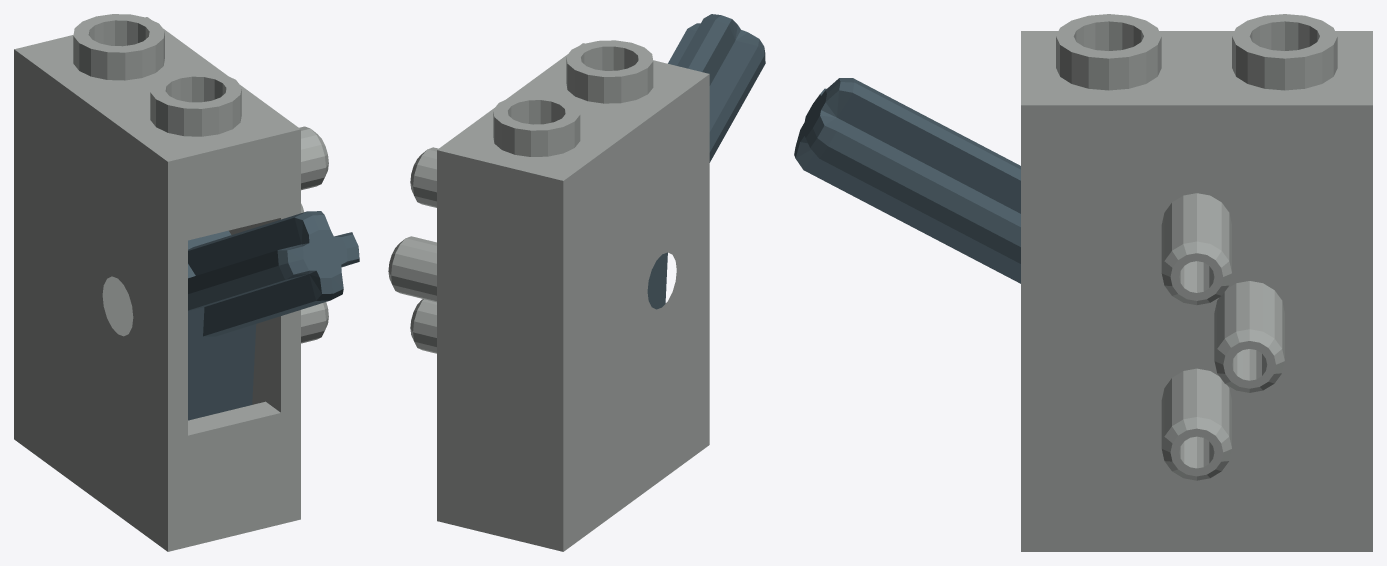
3 renders of one model, left to right at view 1: azimuth 30°, elevation 25°; view 2: azimuth 150°, elevation 25°; view 3: azimuth 270°, elevation 25°, orthographic. The views are drawn at different scales.
Parts seen in each view (by area): view 1: world; view 2: world; view 3: world.
Part boxes in pixels (box(x1,y1,x2,y2)): world: box(14, 14, 359, 551); world: box(388, 14, 765, 551); world: box(794, 14, 1372, 551).
Size of the model in its own units: 0.0136 by 0.024 by 0.0263.
